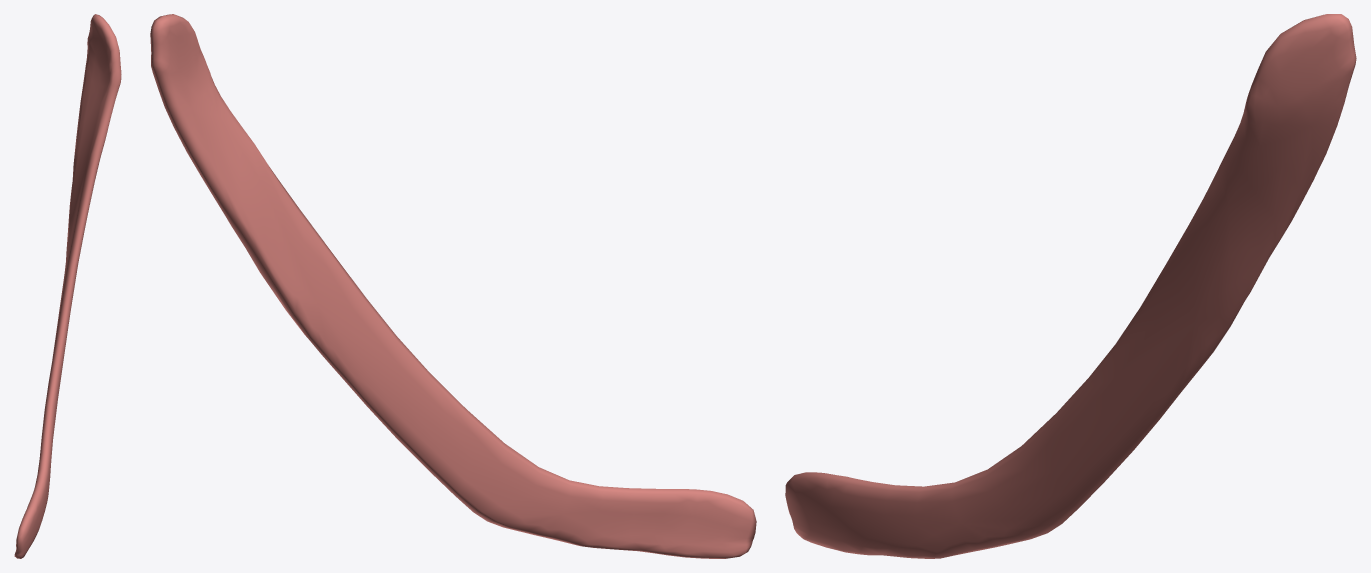
The picture shows the model from 3 angles, left to right: view 1: azimuth 30°, elevation 25°; view 2: azimuth 150°, elevation 25°; view 3: azimuth 270°, elevation 25°; orthographic projection. The views are drawn at different scales.
Visible parts, largest first — view 1: ZA_6b22f7c23b0c5b3c; view 2: ZA_6b22f7c23b0c5b3c; view 3: ZA_6b22f7c23b0c5b3c.
Boxes of the visible parts, x1=… form: ZA_6b22f7c23b0c5b3c: x1=14, y1=14, x2=121, y2=558; ZA_6b22f7c23b0c5b3c: x1=150, y1=14, x2=756, y2=558; ZA_6b22f7c23b0c5b3c: x1=785, y1=14, x2=1356, y2=558.
Bounding box in the file's own units: 0.0119 × 0.0191 × 0.0136.
